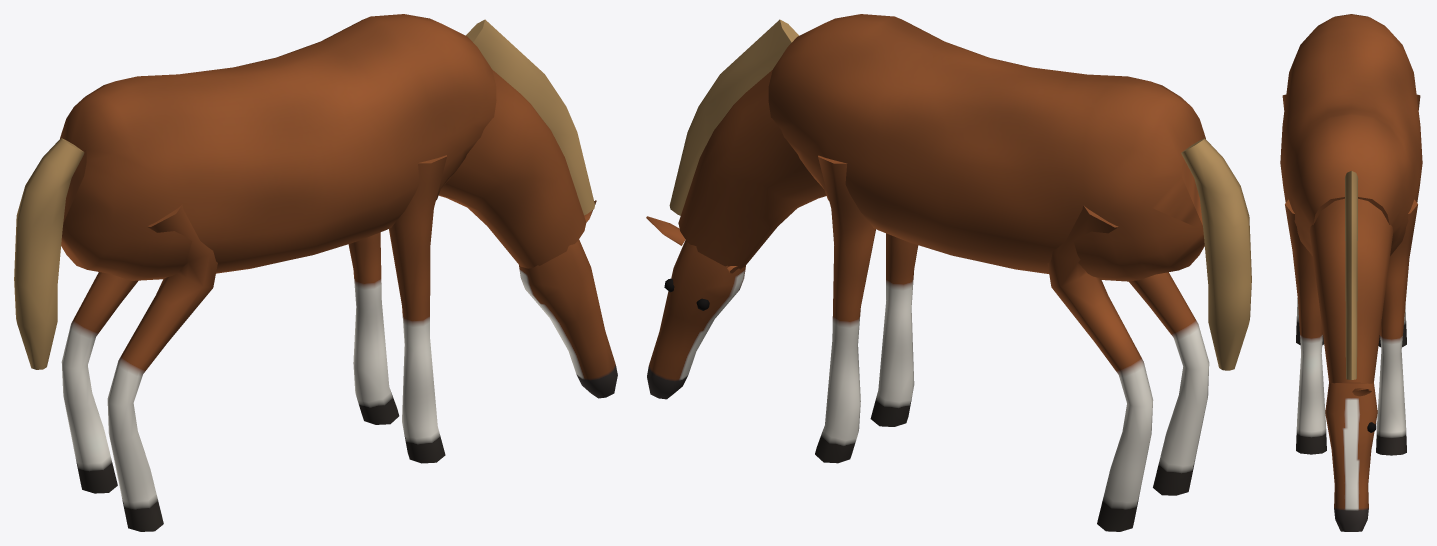
File: tpl_life_horse_1325_horse_chestnut_graze.glb
3 views of the same model, side by side, from view 1: azimuth 30°, elevation 25°; view 2: azimuth 150°, elevation 25°; view 3: azimuth 270°, elevation 25° (orthographic). The views are drawn at different scales.
Parts seen in each view (by area): view 1: tpl_life_horse_1325_horse_chestnut_graze; view 2: tpl_life_horse_1325_horse_chestnut_graze; view 3: tpl_life_horse_1325_horse_chestnut_graze.
Part boxes in pixels (x1,y1,x2,y2): tpl_life_horse_1325_horse_chestnut_graze: (14,14,617,531); tpl_life_horse_1325_horse_chestnut_graze: (646,14,1251,531); tpl_life_horse_1325_horse_chestnut_graze: (1280,14,1422,531).
Size of the model in its own units: 2.44 by 1.66 by 0.6397.
2 materials, 1 textured.
